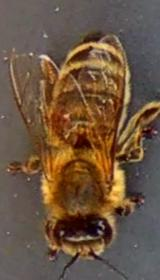varroa_mite: (51, 107, 72, 132)
